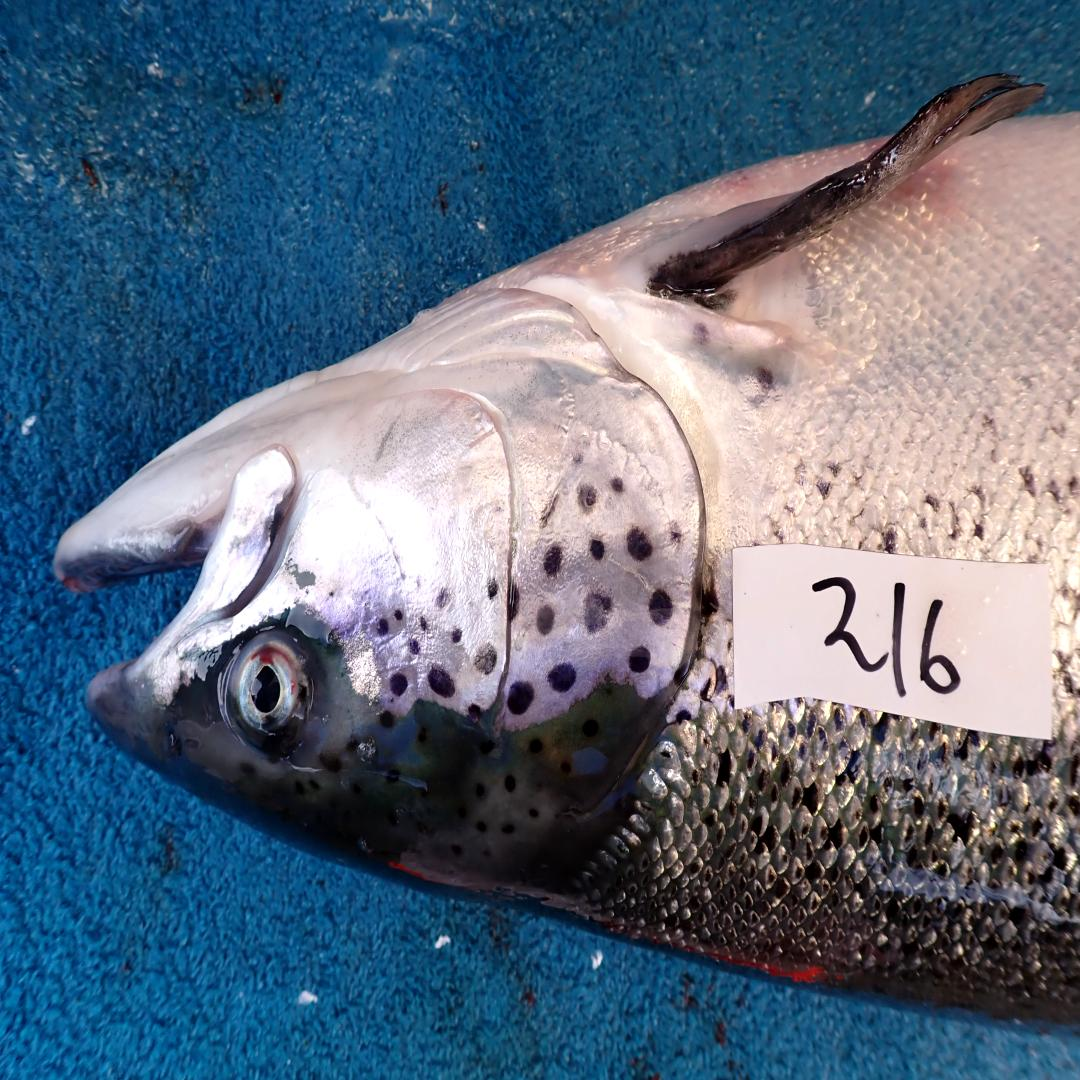roi: (300, 278, 708, 732)
